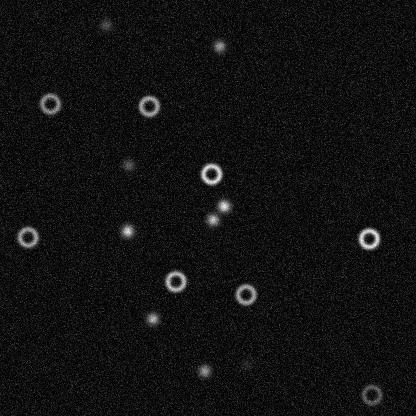Ring: (163, 269, 187, 293), (359, 382, 383, 406), (38, 91, 62, 115), (136, 93, 160, 117), (199, 161, 223, 185), (233, 282, 257, 306), (356, 226, 380, 250), (15, 225, 39, 249)
Spot: (204, 211, 220, 227), (215, 197, 231, 213), (238, 356, 254, 372), (196, 362, 212, 378), (119, 222, 135, 238), (144, 310, 160, 326), (211, 38, 227, 54), (120, 156, 136, 172), (97, 16, 113, 32)
